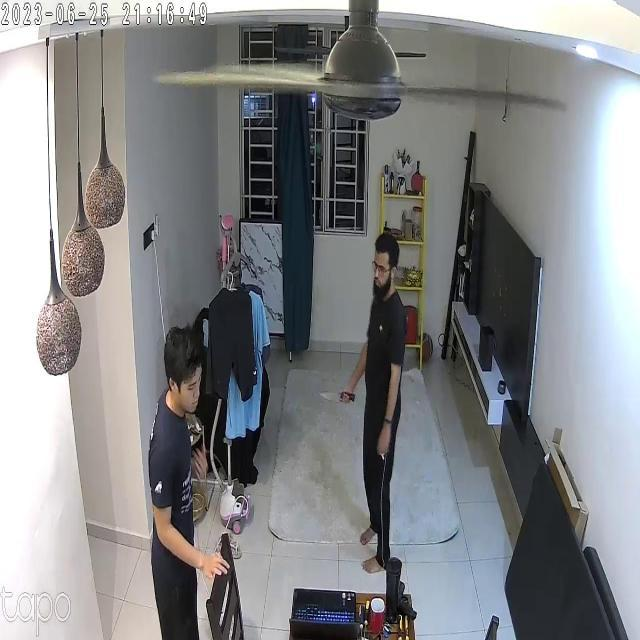Knife: (317, 380, 363, 412)
